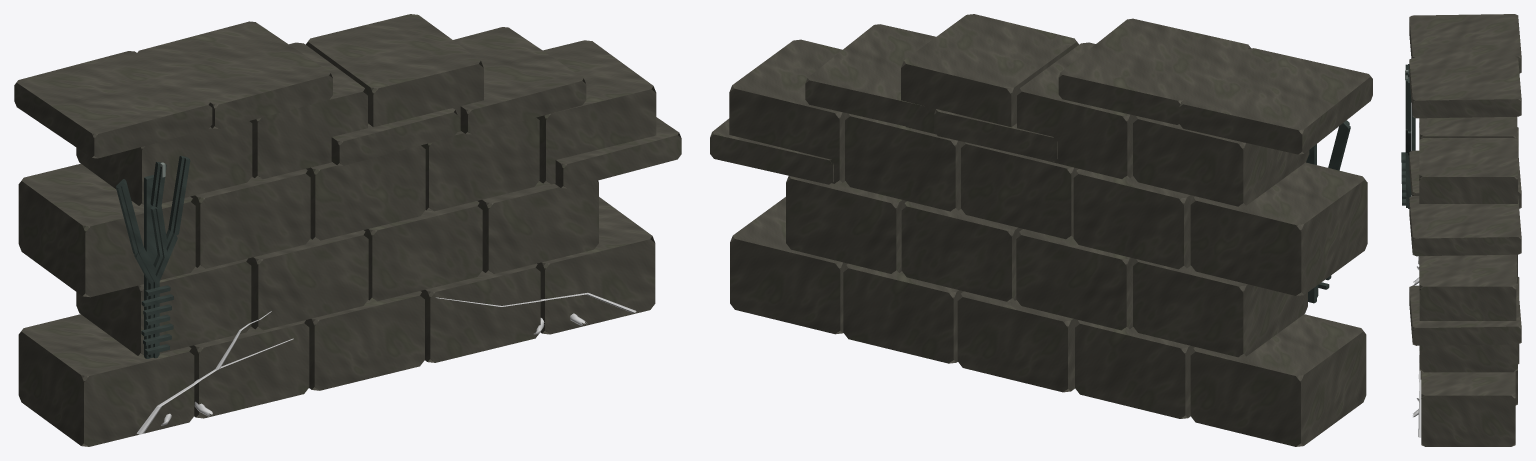
Rendered from cataclysm_upland_wall-lod1.gltf.
3 views of the same model, side by side, from view 1: azimuth 30°, elevation 25°; view 2: azimuth 150°, elevation 25°; view 3: azimuth 270°, elevation 25° (orthographic). The views are drawn at different scales.
Parts seen in each view (by area): view 1: cataclysm_upland_wall LOD1 cataclysm_upland_wall, cataclysm_upland_wall LOD1 cataclysm_upland_wall roots attac; view 2: cataclysm_upland_wall LOD1 cataclysm_upland_wall; view 3: cataclysm_upland_wall LOD1 cataclysm_upland_wall, cataclysm_upland_wall LOD1 cataclysm_upland_wall roots attac.
Boxes of the visible parts, left/top/right/bottom form: cataclysm_upland_wall LOD1 cataclysm_upland_wall: left=14, top=14, right=681, bottom=446; cataclysm_upland_wall LOD1 cataclysm_upland_wall roots attac: left=136, top=292, right=636, bottom=434; cataclysm_upland_wall LOD1 cataclysm_upland_wall: left=710, top=14, right=1372, bottom=446; cataclysm_upland_wall LOD1 cataclysm_upland_wall: left=1401, top=14, right=1521, bottom=446; cataclysm_upland_wall LOD1 cataclysm_upland_wall roots attac: left=1418, top=256, right=1421, bottom=437.
Size of the model in its own units: 3.05 by 1.56 by 0.7398.
